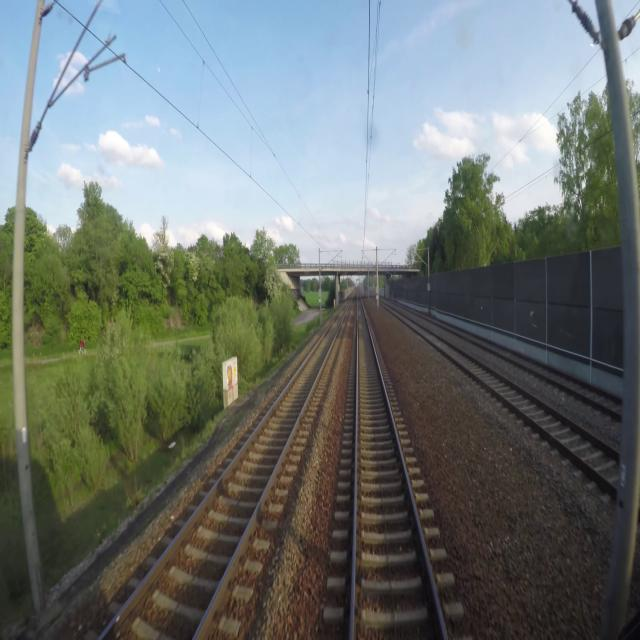rail-track: (102, 296, 351, 639), (395, 311, 619, 486), (354, 293, 443, 639), (436, 320, 622, 412)
